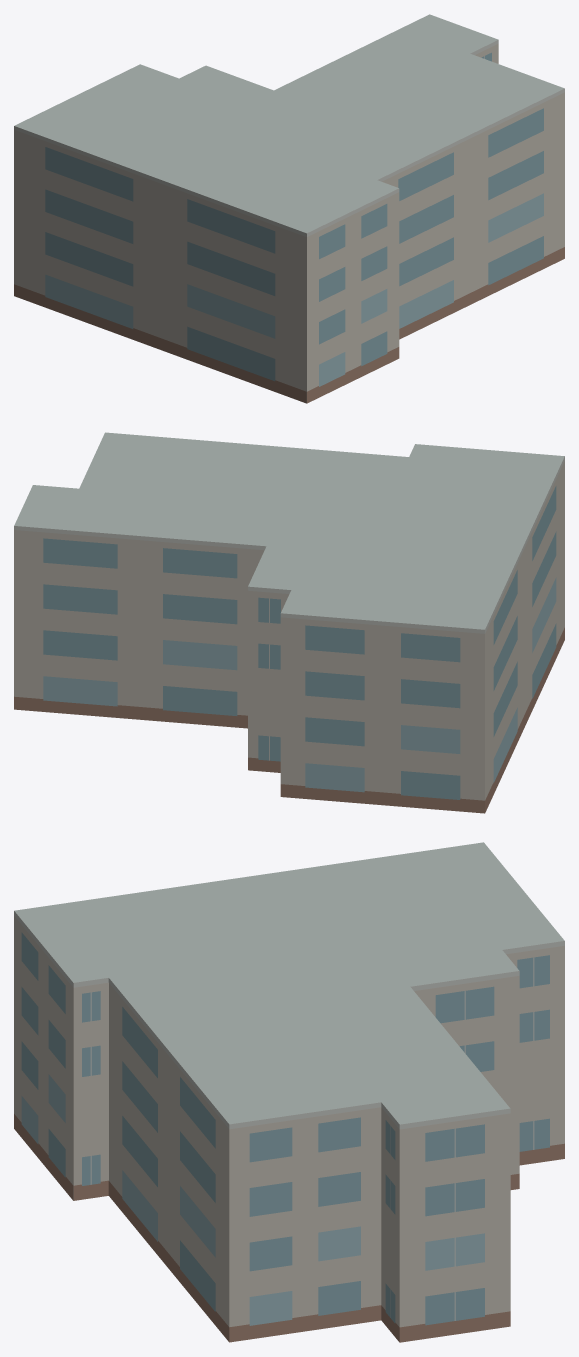
The model's file is survey-upis-32652256.glb.
3 views of the same model, one above another, from view 1: azimuth 30°, elevation 25°; view 2: azimuth 150°, elevation 25°; view 3: azimuth 270°, elevation 25° (orthographic). The views are drawn at different scales.
Parts seen in each view (by area): view 1: survey-upis-32652256.tmp; view 2: survey-upis-32652256.tmp; view 3: survey-upis-32652256.tmp.
Boxes of the visible parts, x1,y1,x2,y2 form: survey-upis-32652256.tmp: (14, 14, 564, 403); survey-upis-32652256.tmp: (14, 432, 564, 813); survey-upis-32652256.tmp: (14, 842, 564, 1342).
Bounding box in the file's own units: 30.29 × 10.9 × 24.97.
